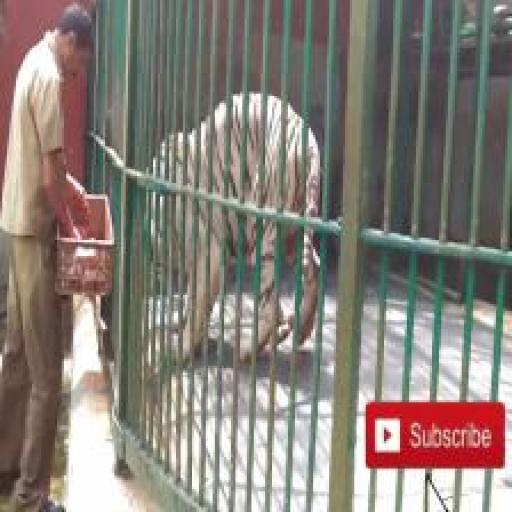Tiger: (139, 76, 327, 388)
